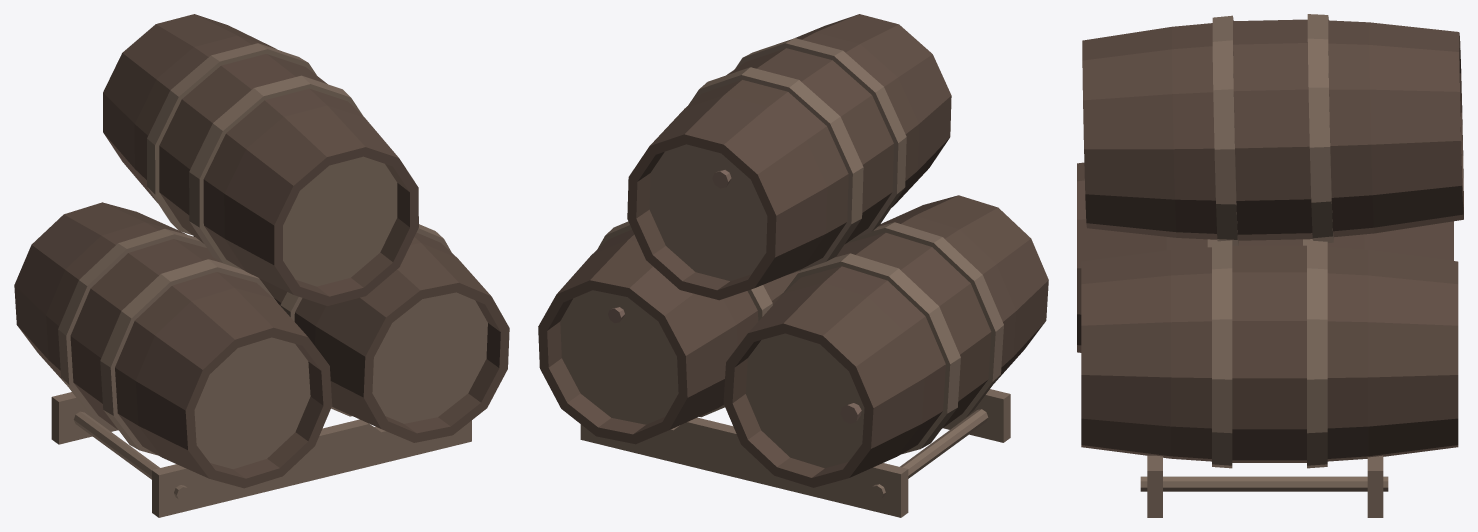
Rendered from entity21230.gltf.
The picture shows the model from 3 angles, left to right: view 1: azimuth 30°, elevation 25°; view 2: azimuth 150°, elevation 25°; view 3: azimuth 270°, elevation 25°; orthographic projection. The views are drawn at different scales.
Visible parts, largest first — view 1: node_barrel_stand; view 2: node_barrel_stand; view 3: node_barrel_stand.
Boxes of the visible parts, bbox=[...] form: node_barrel_stand: bbox=[14, 14, 509, 517]; node_barrel_stand: bbox=[538, 14, 1048, 517]; node_barrel_stand: bbox=[1077, 14, 1463, 517].
Bounding box in the file's own units: 0.8874 × 0.876 × 0.7517.
Materials: 1 (1 with a texture image).
